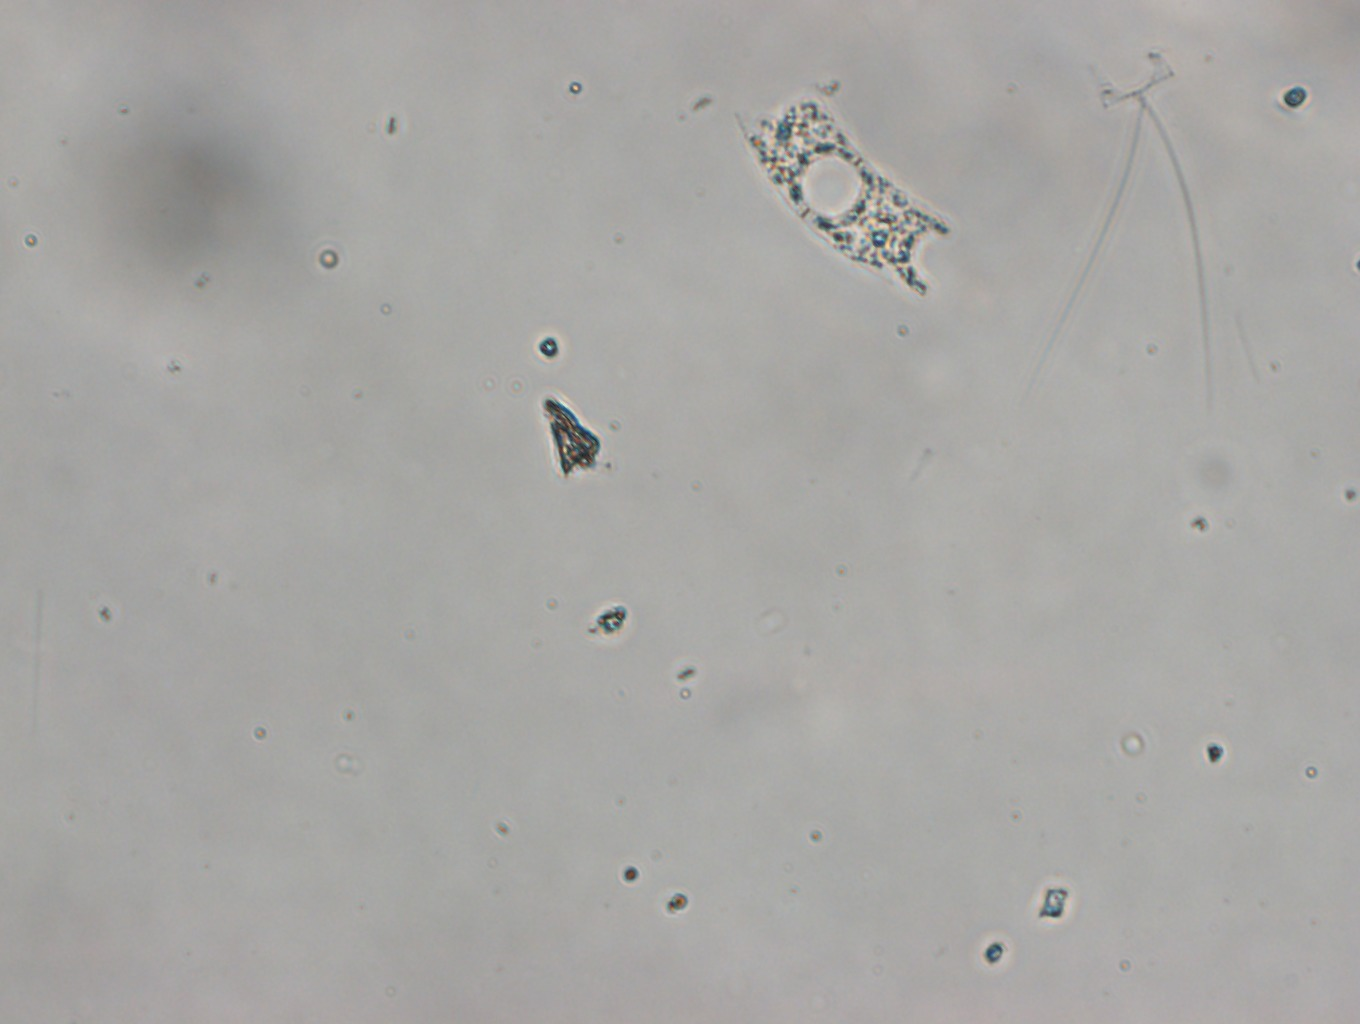eucampia: (726, 84, 977, 303)
